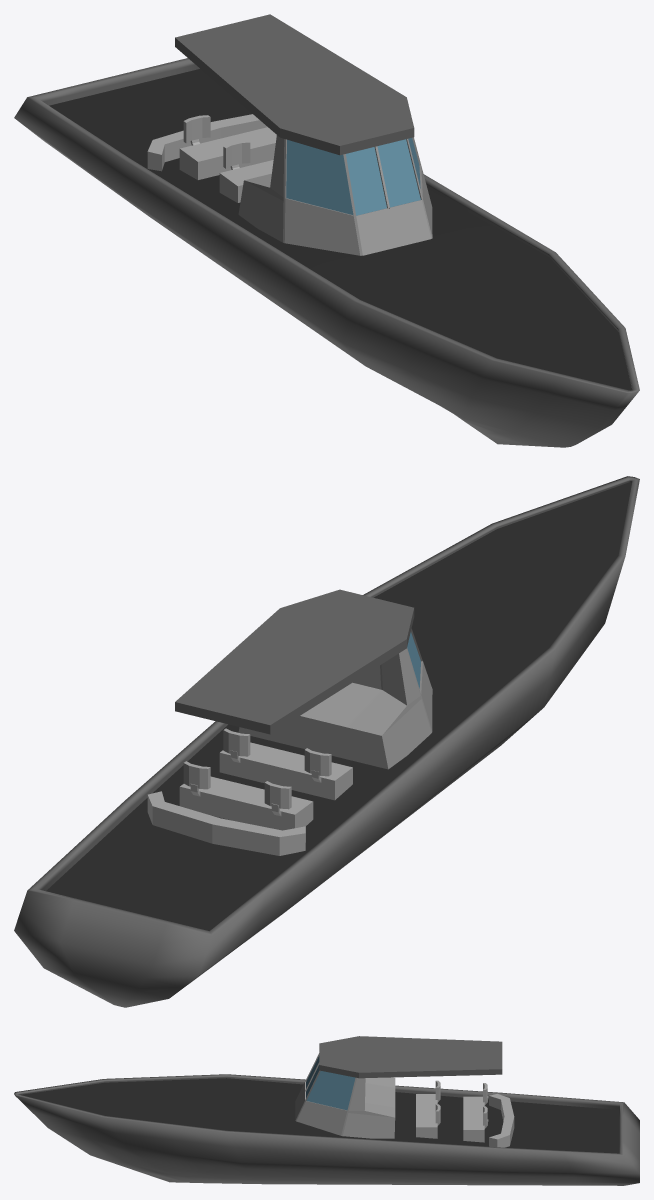
Rendered from Yacht.fbx.
3 views of the same model, one above another, from view 1: azimuth 30°, elevation 25°; view 2: azimuth 150°, elevation 25°; view 3: azimuth 270°, elevation 25° (orthographic). The views are drawn at different scales.
Visible parts, largest first — view 1: Body, Floor, Roof, Main, Windows, Seats; view 2: Floor, Body, Roof, Seats, Main; view 3: Body, Floor, Roof, Main, Seats, Windows.
Part boxes in pixels (x1,y1,x2,y2): Body: (14,58,639,447); Floor: (49,69,631,390); Roof: (175,14,414,155); Main: (238,135,432,255); Windows: (286,138,420,215); Seats: (147,114,276,202); Floor: (46,482,631,930); Body: (14,476,639,1007); Roof: (175,589,414,734); Seats: (147,728,352,855); Main: (238,629,432,769); Body: (14,1074,639,1185); Floor: (21,1078,619,1153); Roof: (319,1036,502,1078); Main: (295,1053,395,1138); Seats: (416,1080,514,1147); Windows: (306,1056,355,1110).
Bounding box in the file's own units: 91.46 × 95.03 × 415.
